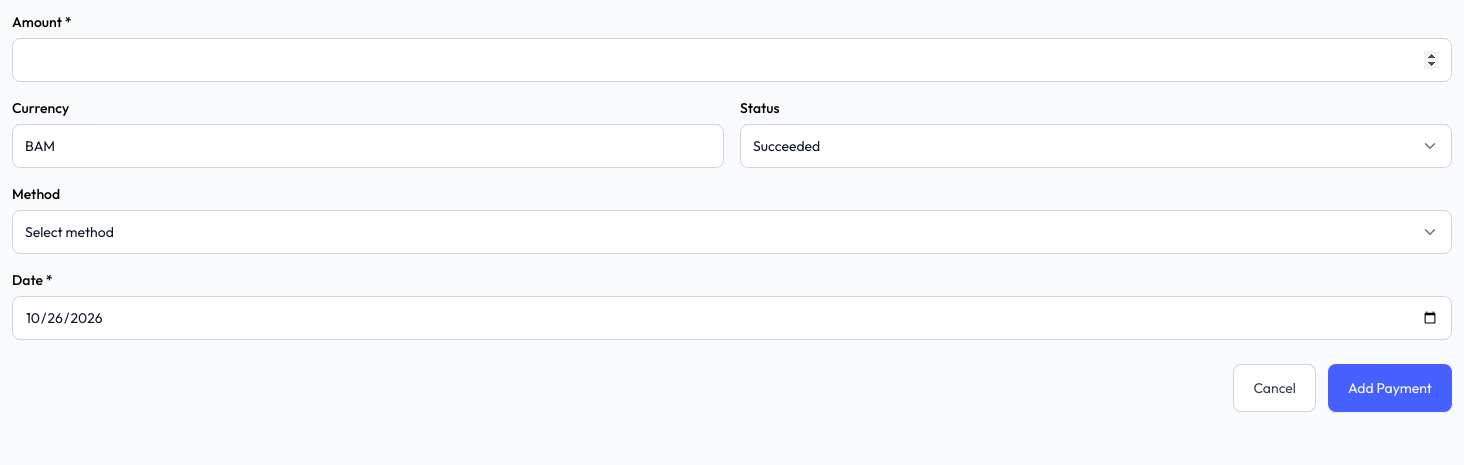
Test case: shared payment form › rejects invalid amount 0 before sending
Type "0" into the number field labelled "Amount *" at (732, 60), box top-left (12, 38), bottom-right (1452, 82)
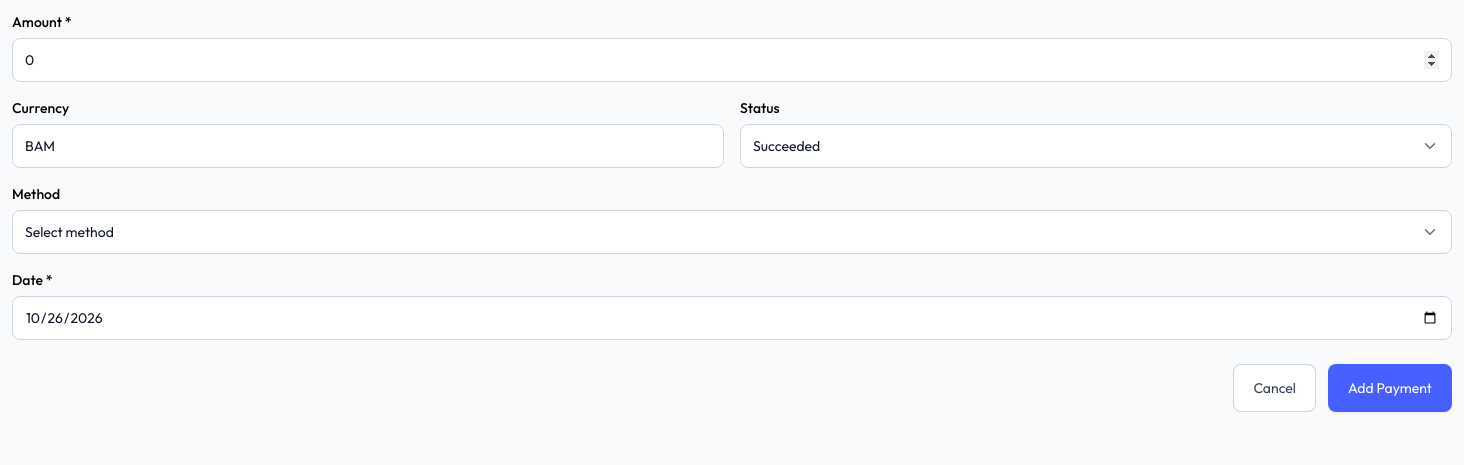
Submit the form
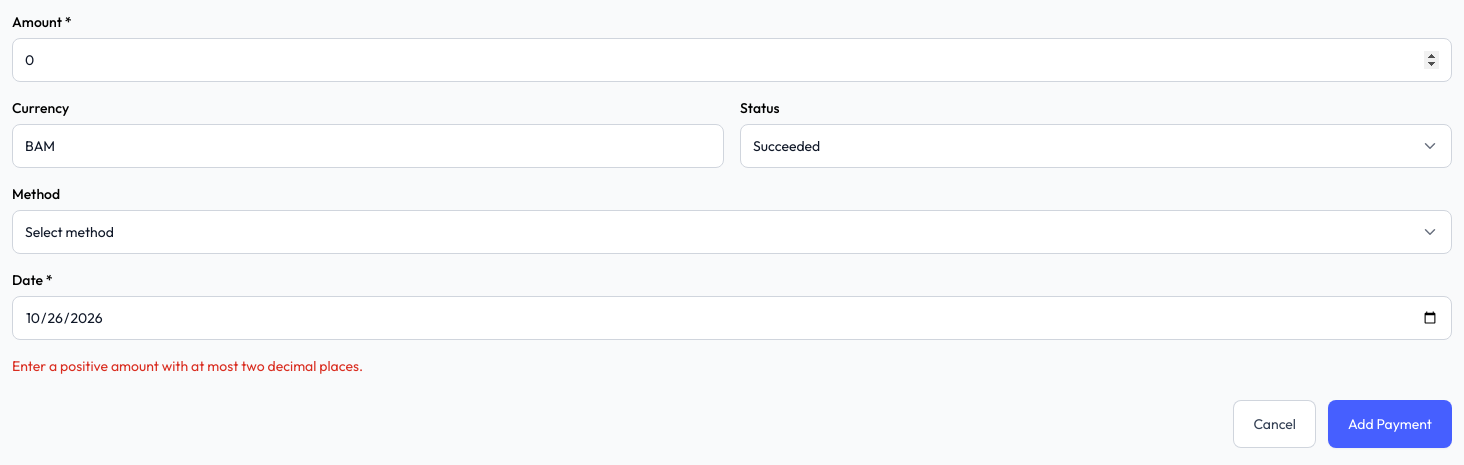
expect the message "Enter a positive amount with at most two decimal places." is shown: met, box top-left (12, 357), bottom-right (363, 375)
